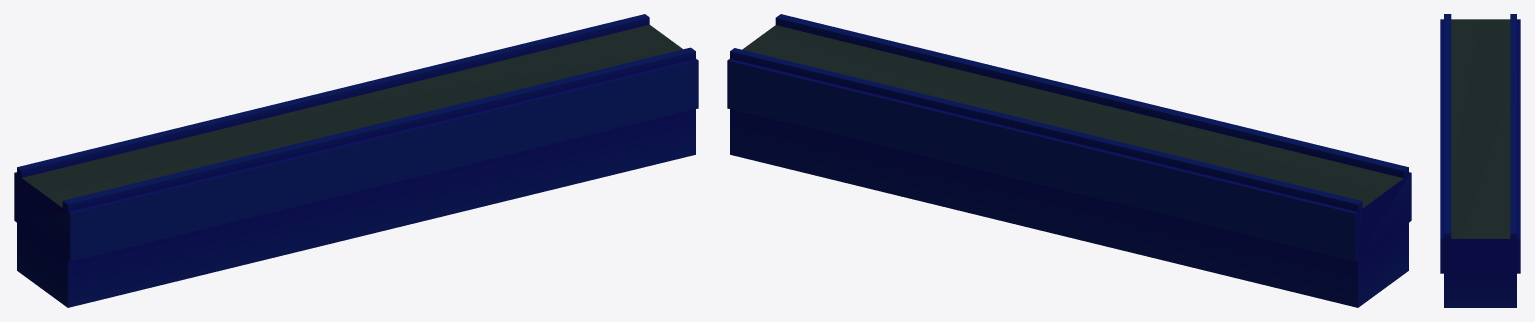
3 views of the same model, side by side, from view 1: azimuth 30°, elevation 25°; view 2: azimuth 150°, elevation 25°; view 3: azimuth 270°, elevation 25° (orthographic). The views are drawn at different scales.
Parts seen in each view (by area): view 1: stepped_extrusion, flat_top; view 2: stepped_extrusion, flat_top; view 3: flat_top, stepped_extrusion.
Part boxes in pixels (box(x1,y1,x2,y2)): stepped_extrusion: box(14, 14, 698, 307); flat_top: box(22, 24, 682, 207); stepped_extrusion: box(727, 14, 1411, 307); flat_top: box(742, 25, 1403, 208); flat_top: box(1451, 19, 1510, 238); stepped_extrusion: box(1440, 14, 1520, 307).
Size of the model in its own units: 2 by 0.3147 by 0.3091.
